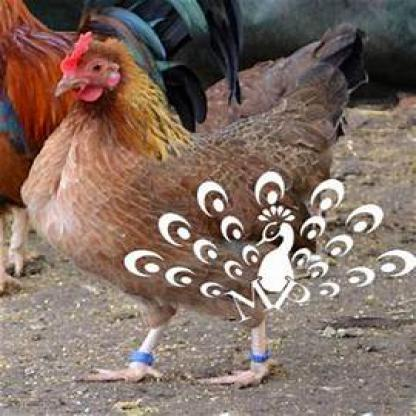chicken: (22, 30, 350, 390)
